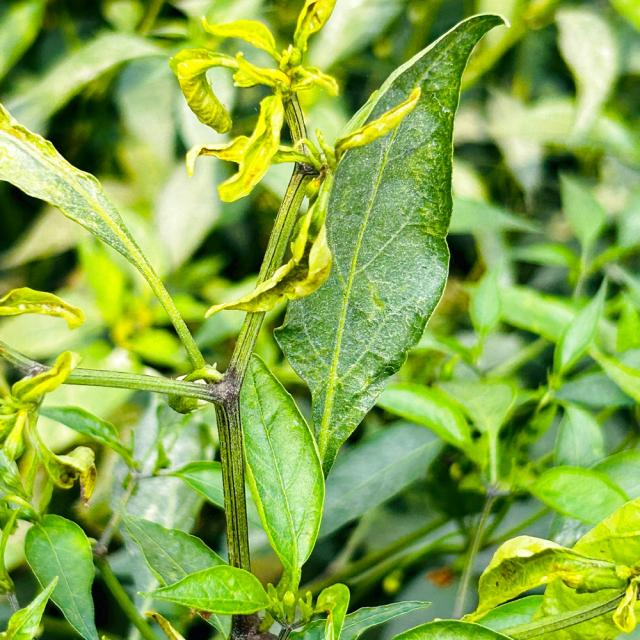Chilli_Leaf_Curl: (1, 1, 511, 638), (270, 11, 510, 481), (1, 101, 213, 379), (168, 0, 340, 203), (462, 495, 639, 638), (236, 351, 326, 597), (22, 512, 98, 638), (140, 562, 272, 616)
